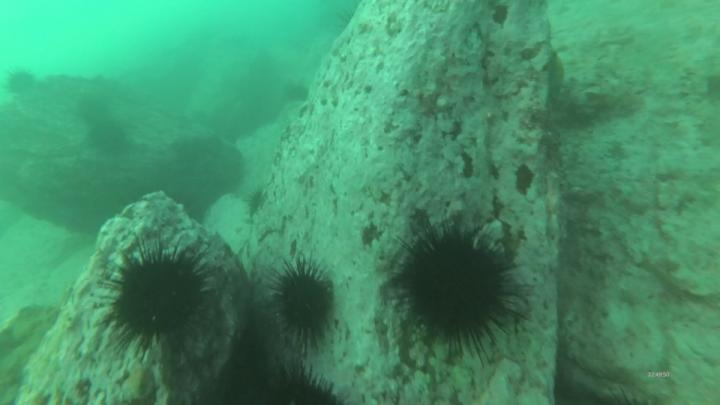echinus: (387, 219, 528, 368), (94, 234, 220, 366), (263, 256, 338, 361), (247, 365, 349, 405), (85, 119, 131, 160), (4, 65, 41, 101), (73, 94, 110, 129), (243, 186, 269, 219), (282, 81, 313, 104)
